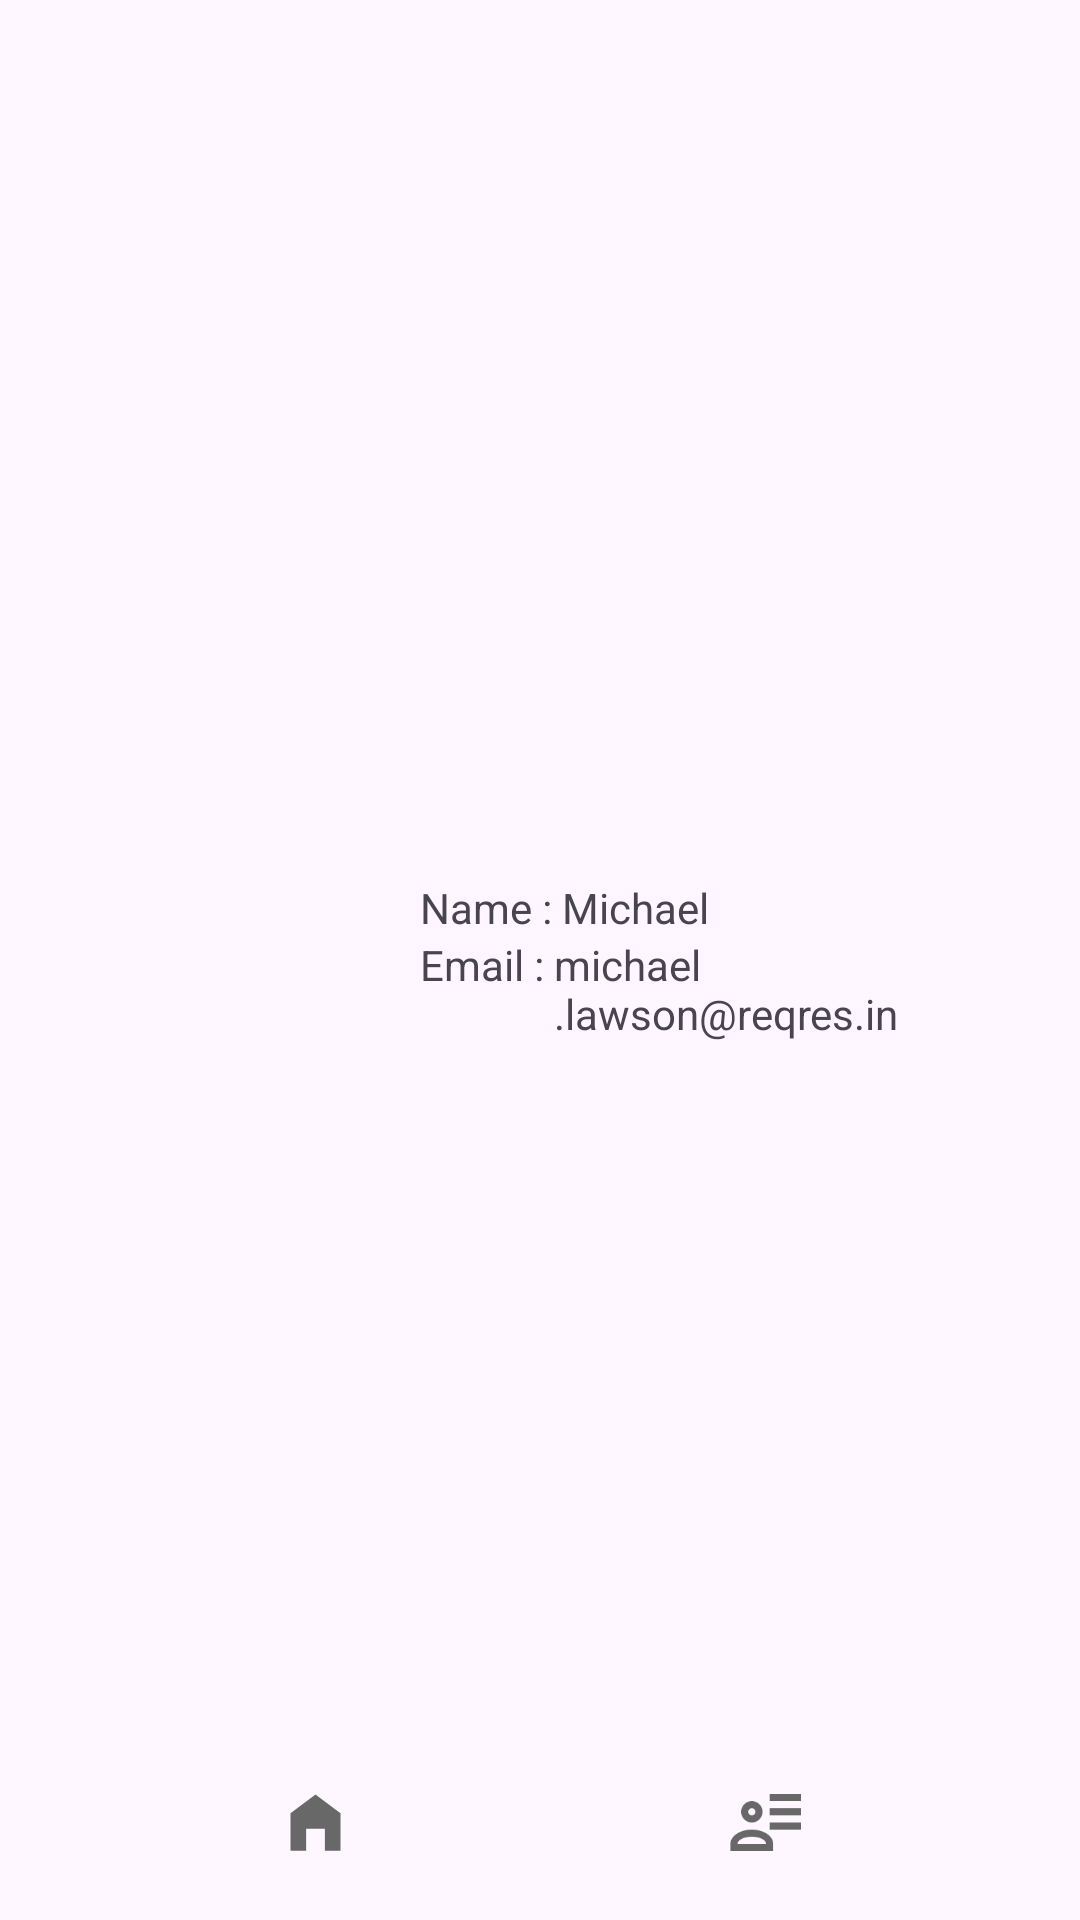

Named icons in this screenshot (1080 × 1920) and their centers, (x=x, y=y):
account: (x=765, y=1822)
home: (x=315, y=1822)
